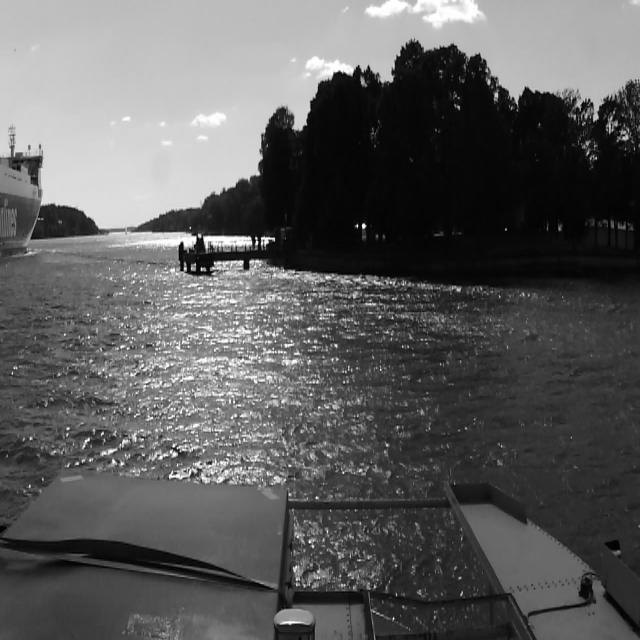ship: (0, 119, 46, 267)
